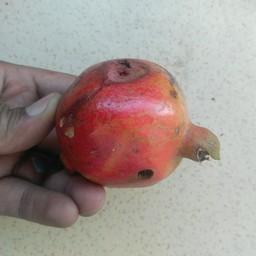Bad_pomegranate: (55, 55, 222, 193)
